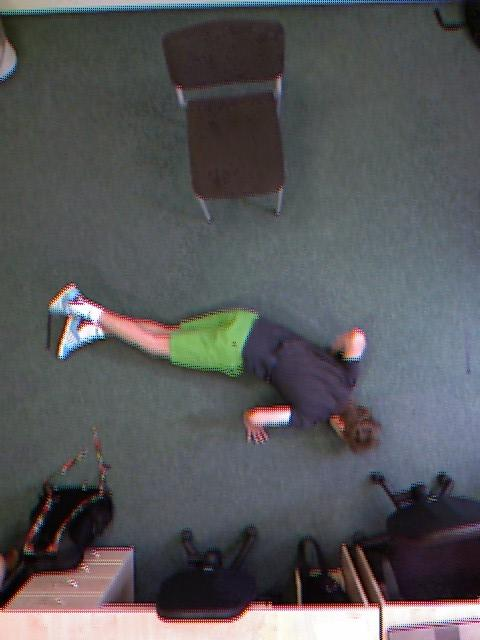fall: (150, 142, 289, 603)
